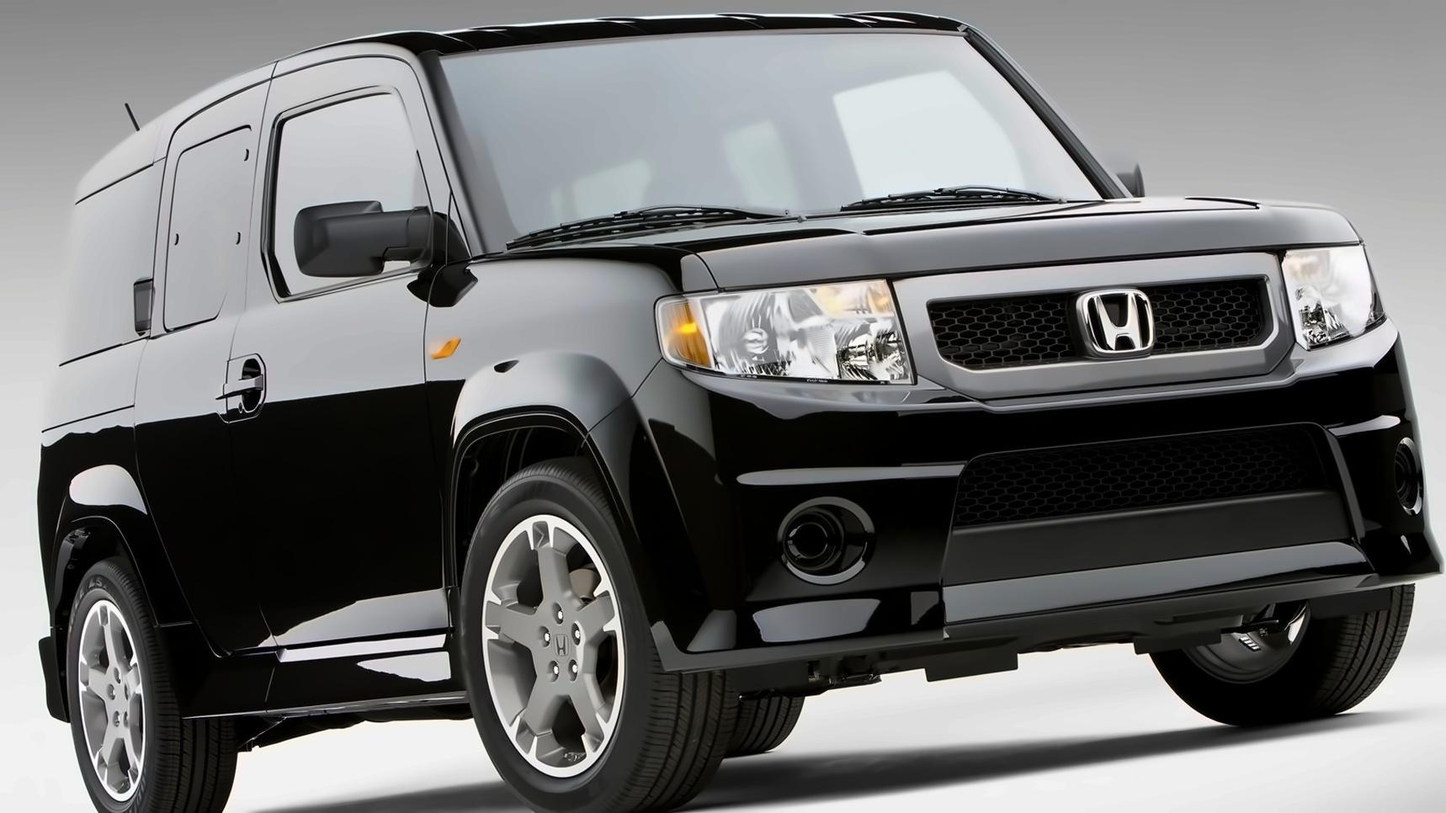Car hood: (634, 188, 1375, 298)
Driver-s door - -F-R-: (234, 44, 470, 670)
Fender - -F-R-: (421, 240, 673, 705)
Fender - -R-R-: (17, 398, 208, 632)
Front bumper: (627, 366, 1446, 680)
Headlight - -L-: (1269, 234, 1398, 359)
Headlight - -R-: (646, 267, 939, 397)
Passenger-s door - -R-R-: (139, 76, 264, 663)
Rear bumper: (21, 522, 97, 741)
Side bumper - -R-: (162, 625, 478, 743)
Side mirror - -R-: (282, 188, 463, 301)
